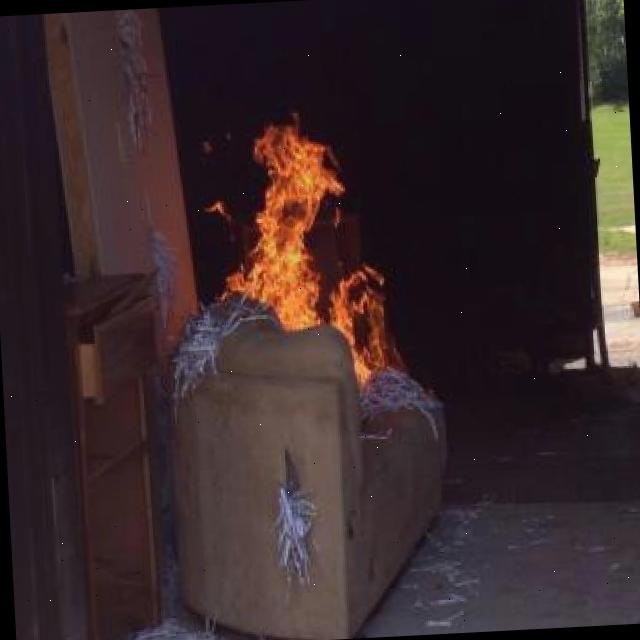fire: (222, 90, 430, 394)
